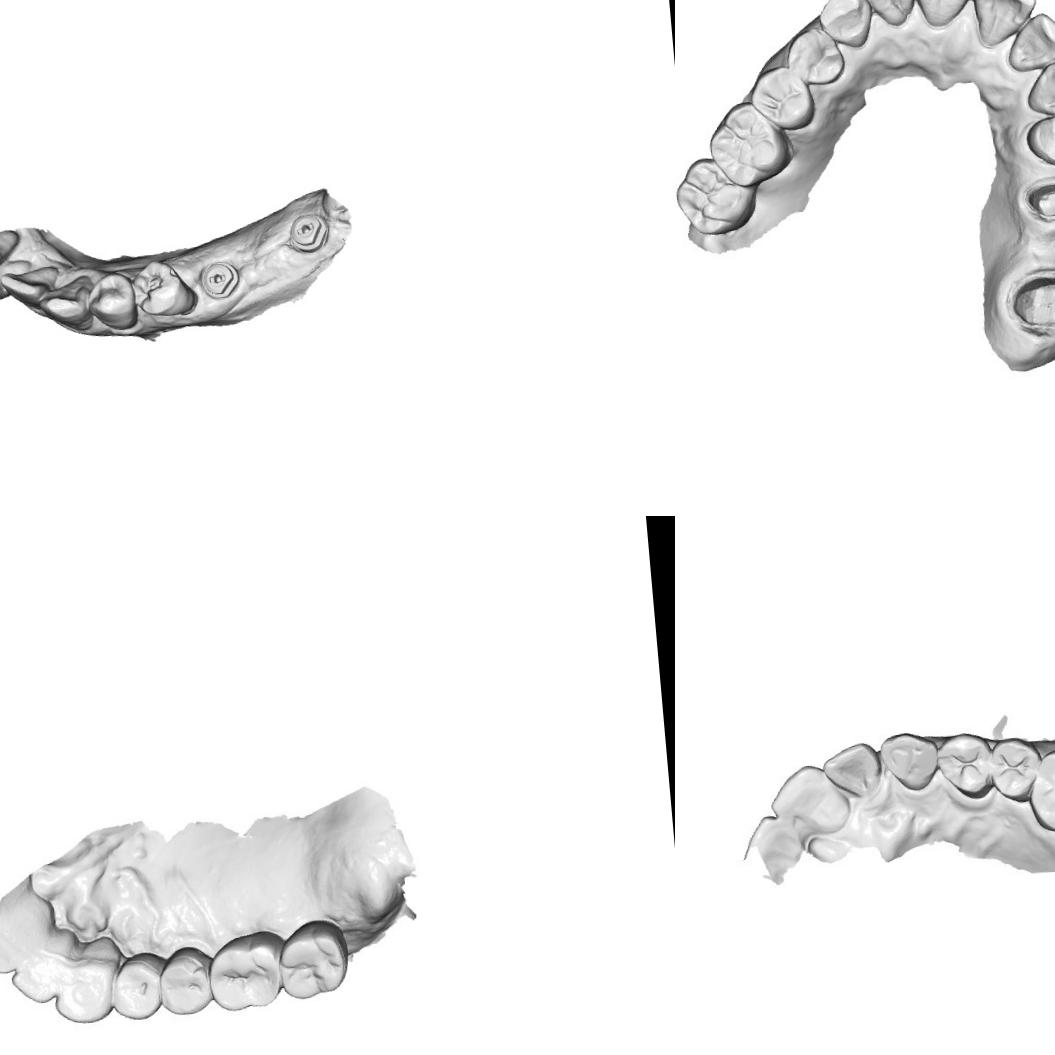canine: (52, 943, 120, 1028), (34, 272, 97, 334), (880, 729, 939, 792), (821, 0, 872, 46), (1022, 60, 1055, 116)
crown: (1011, 271, 1055, 331), (1025, 175, 1055, 227)
implant_minus: (285, 210, 331, 254), (196, 258, 243, 301)
incisor: (766, 762, 851, 838), (0, 892, 51, 981), (8, 936, 72, 1005), (822, 738, 882, 805), (0, 263, 62, 310), (1004, 15, 1055, 66), (972, 0, 1032, 40), (0, 257, 34, 302), (914, 0, 978, 20), (865, 0, 916, 22), (0, 226, 22, 269)
molar: (273, 918, 348, 1006), (206, 933, 284, 1014), (712, 104, 790, 183), (675, 158, 754, 234), (1027, 747, 1055, 831)
premolar: (129, 255, 198, 319), (160, 948, 212, 1016), (756, 67, 814, 127), (83, 270, 138, 333), (789, 26, 847, 84), (937, 734, 990, 797), (112, 952, 162, 1018), (989, 738, 1038, 797), (1023, 113, 1055, 171)
